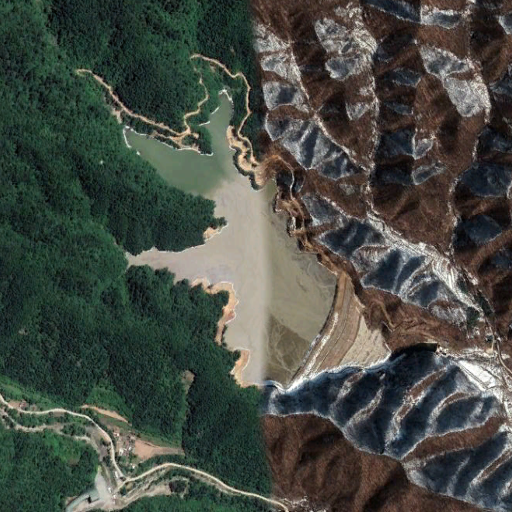tp: (121, 93, 392, 392)
